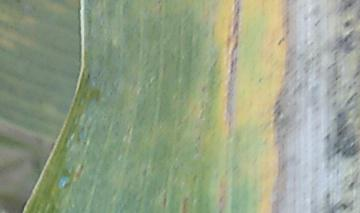tarspot: (337, 1, 358, 13), (342, 29, 354, 45), (342, 17, 353, 29), (275, 36, 286, 46), (198, 82, 206, 93), (255, 76, 264, 84), (81, 139, 89, 146)
